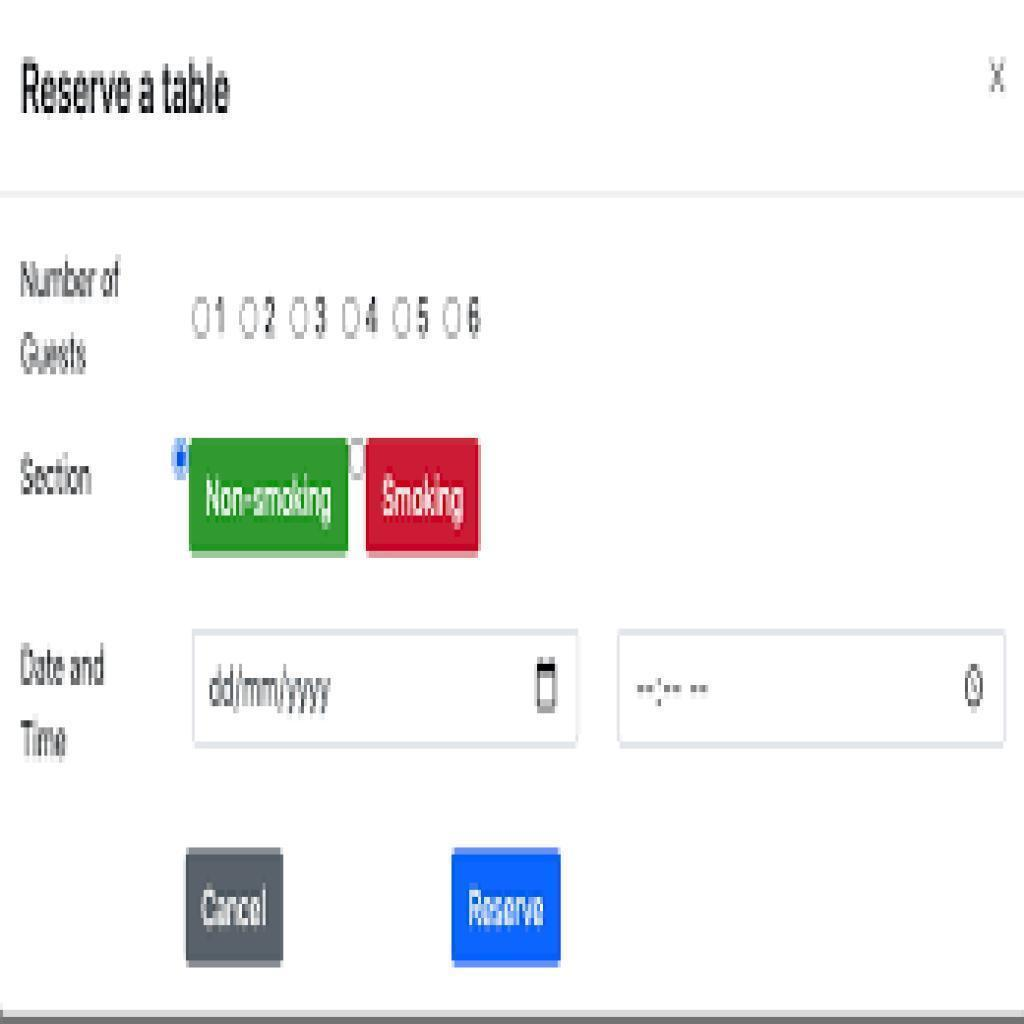button: (453, 850, 564, 967), (184, 848, 285, 965)
input: (188, 628, 573, 738), (623, 633, 1005, 743)
radio: (389, 284, 417, 353), (237, 284, 263, 346), (438, 284, 463, 348), (286, 287, 313, 344), (338, 288, 366, 340), (191, 290, 212, 353), (343, 437, 372, 476), (170, 436, 191, 478)
